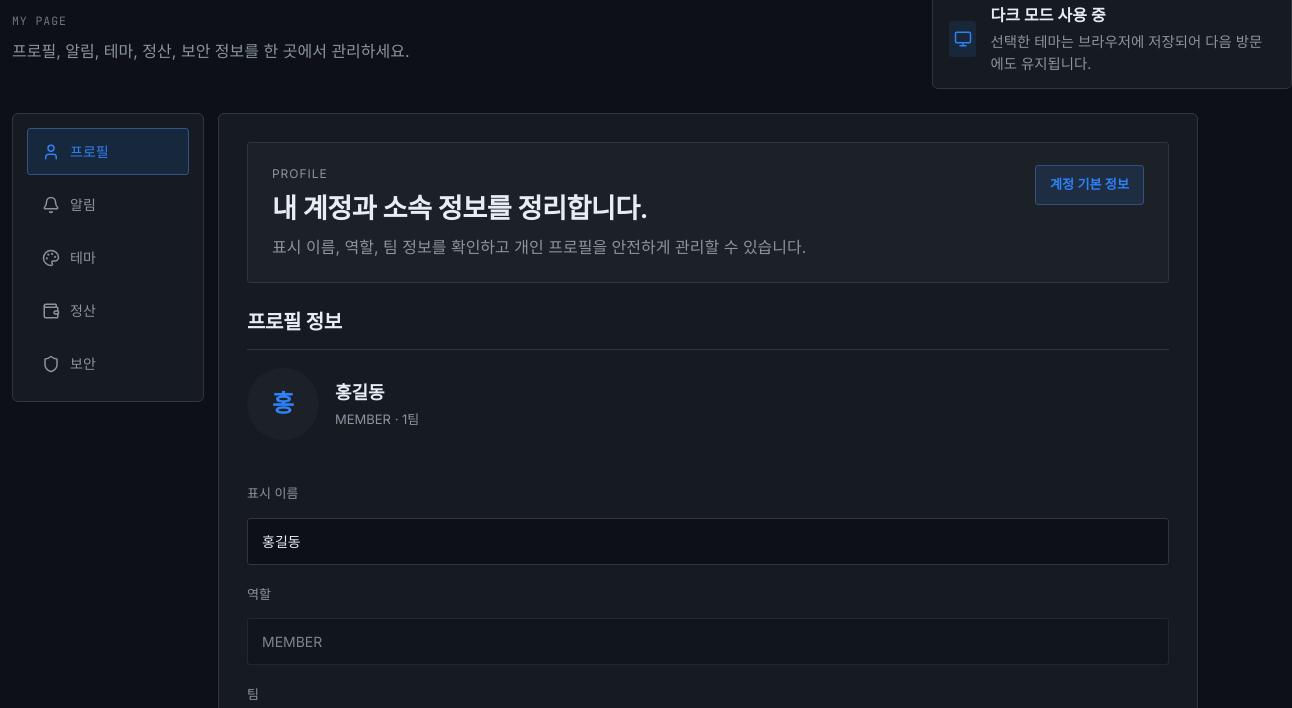
Test: Settings 페이지 › 보안 탭 클릭 시 비밀번호 변경 섹션이 표시된다
Click the button "보안": [108, 364] box [27,340,189,387]
(page scrolled)
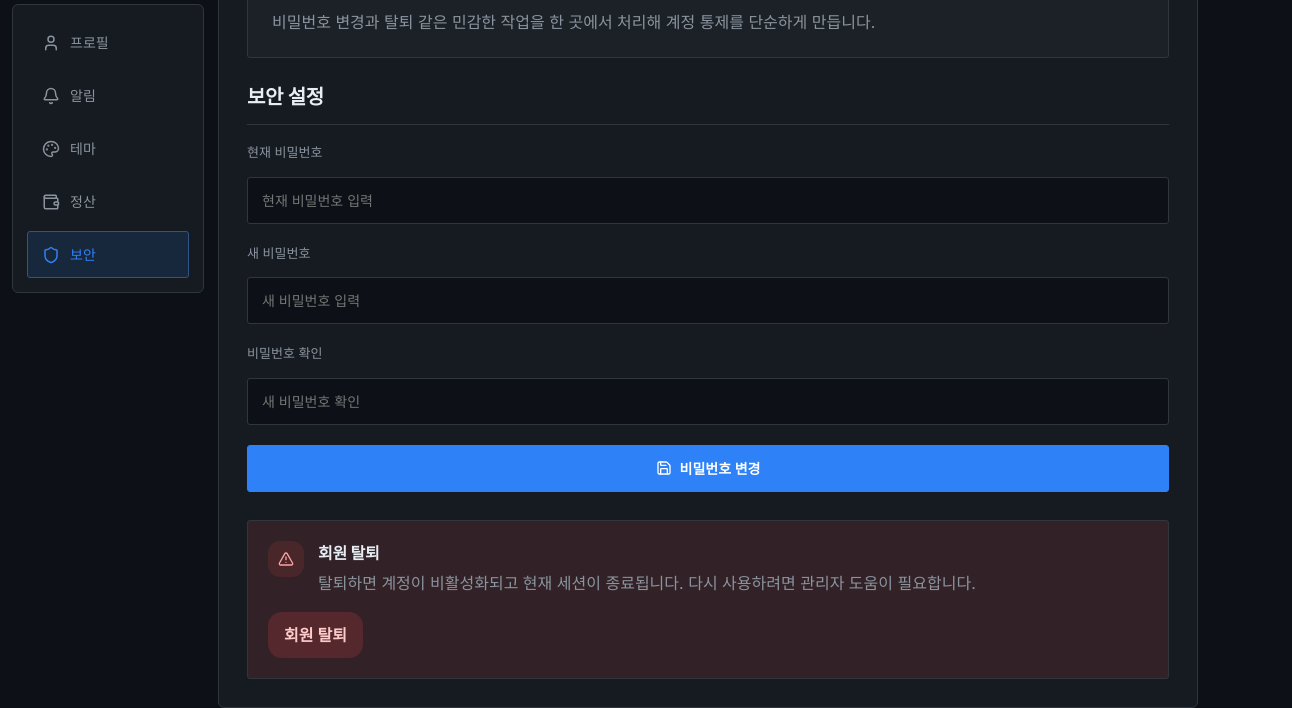
Check: the button "비밀번호 변경" is shown, box [247,445,1169,492]
